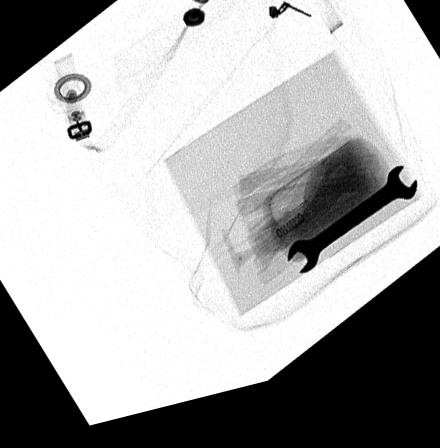Wrench: (285, 184, 420, 291)
